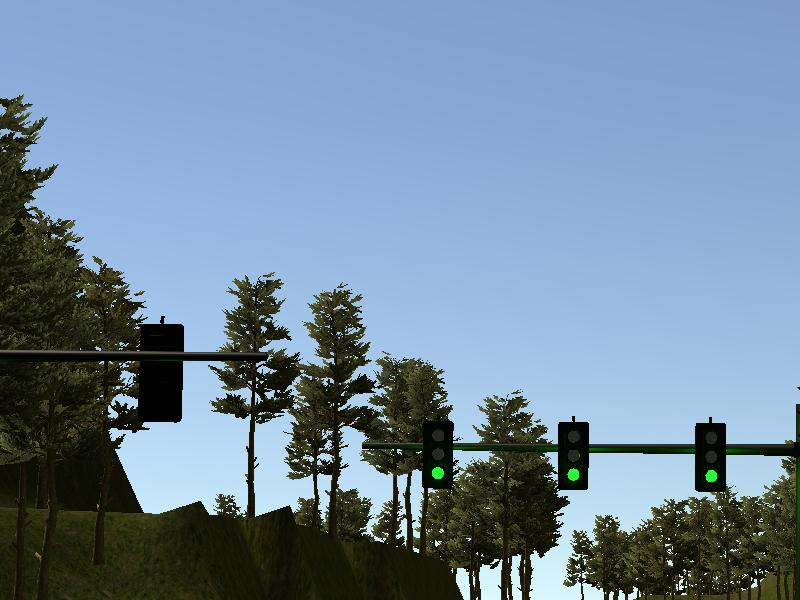Green: (696, 422, 725, 493), (422, 421, 452, 488), (560, 421, 587, 489)
